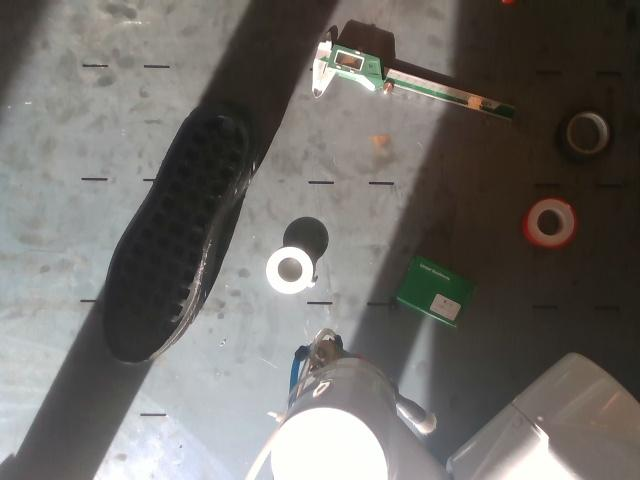shoes: (105, 110, 244, 362)
